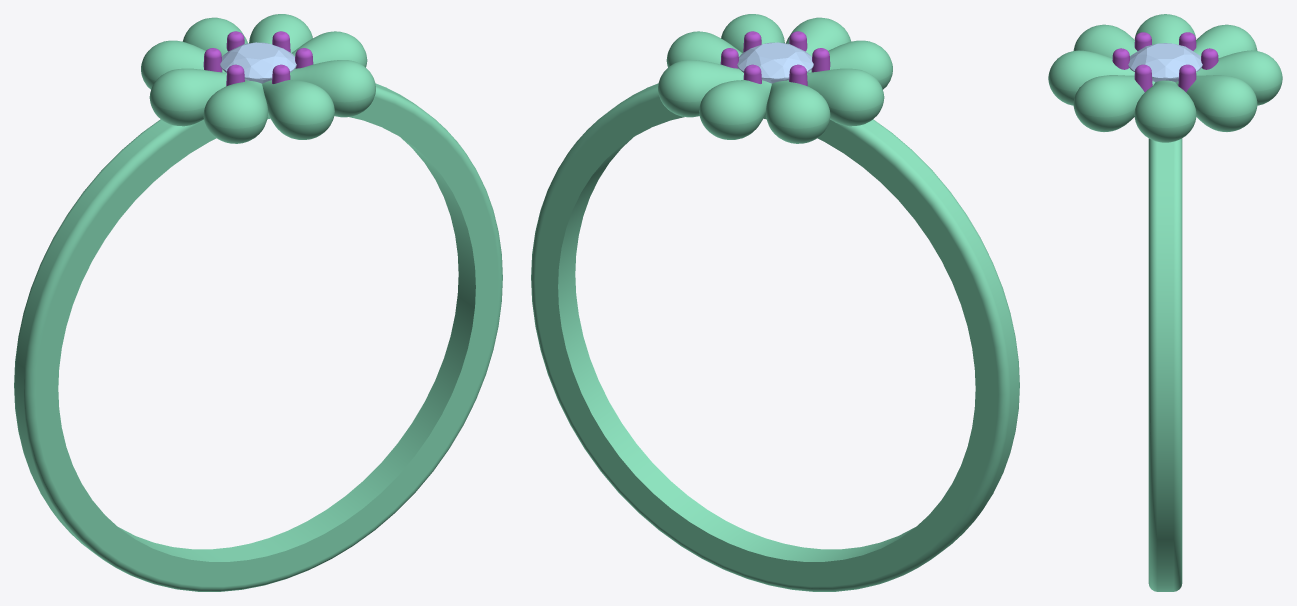
The picture shows the model from 3 angles, left to right: view 1: azimuth 30°, elevation 25°; view 2: azimuth 150°, elevation 25°; view 3: azimuth 270°, elevation 25°; orthographic projection. The views are drawn at different scales.
Parts seen in each view (by area): view 1: anillo 01.3dm, Diamond_Round; view 2: anillo 01.3dm, Diamond_Round; view 3: anillo 01.3dm, Diamond_Round, Prong (×4).
Boxes of the visible parts, <box> form: anillo 01.3dm: <box>14,14,502,591</box>; Diamond_Round: <box>220,42,296,83</box>; anillo 01.3dm: <box>531,14,1019,591</box>; Diamond_Round: <box>737,42,813,83</box>; anillo 01.3dm: <box>1048,14,1282,591</box>; Diamond_Round: <box>1128,43,1202,82</box>; Prong (×4): <box>1112,48,1218,92</box>.
Size of the model in its own units: 2.62 by 2.79 by 1.15.
